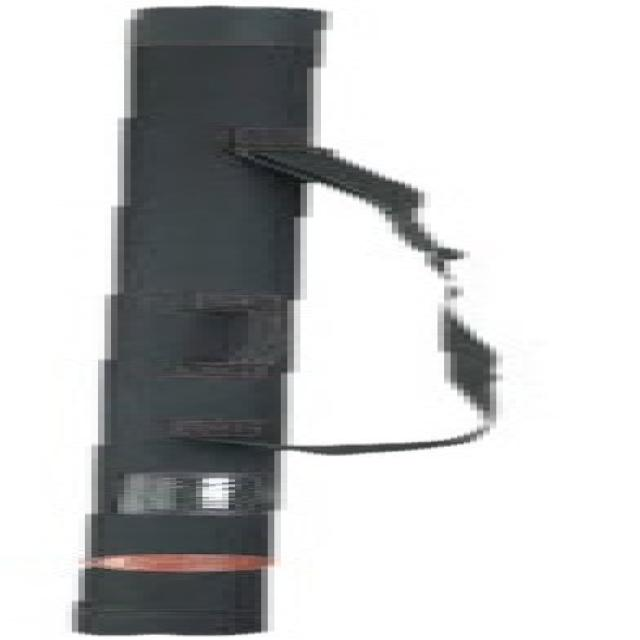bazooka: (56, 1, 358, 635)
